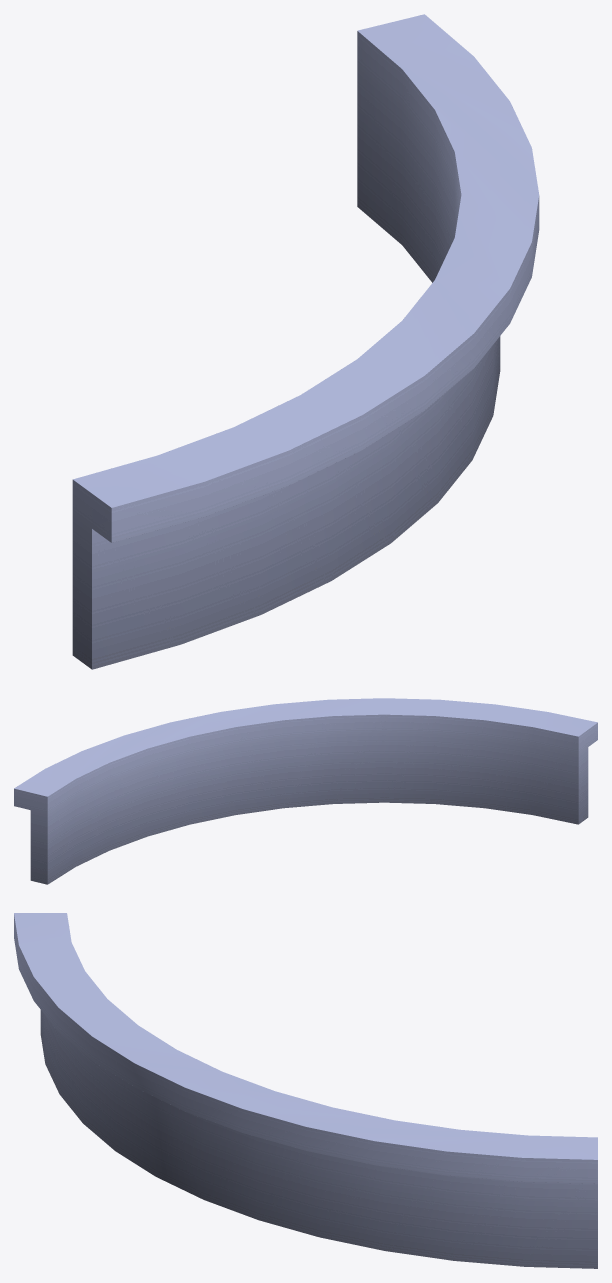
Rendered from border-high-corner-round.glb.
The picture shows the model from 3 angles, top to bottom: view 1: azimuth 30°, elevation 25°; view 2: azimuth 150°, elevation 25°; view 3: azimuth 270°, elevation 25°; orthographic projection. The views are drawn at different scales.
Parts seen in each view (by area): view 1: border-high-corner-round; view 2: border-high-corner-round; view 3: border-high-corner-round.
Boxes of the visible parts, x1,y1,x2,y2 form: border-high-corner-round: (72, 14, 539, 669); border-high-corner-round: (14, 698, 597, 884); border-high-corner-round: (14, 913, 597, 1268).
Bounding box in the file's own units: 2.2 × 0.5 × 2.2.
1 material, 1 textured.
